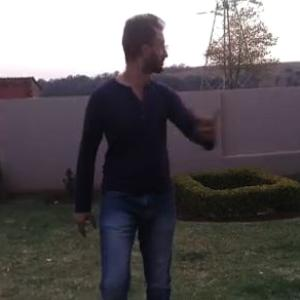takeoff-hand: (189, 98, 228, 155)
